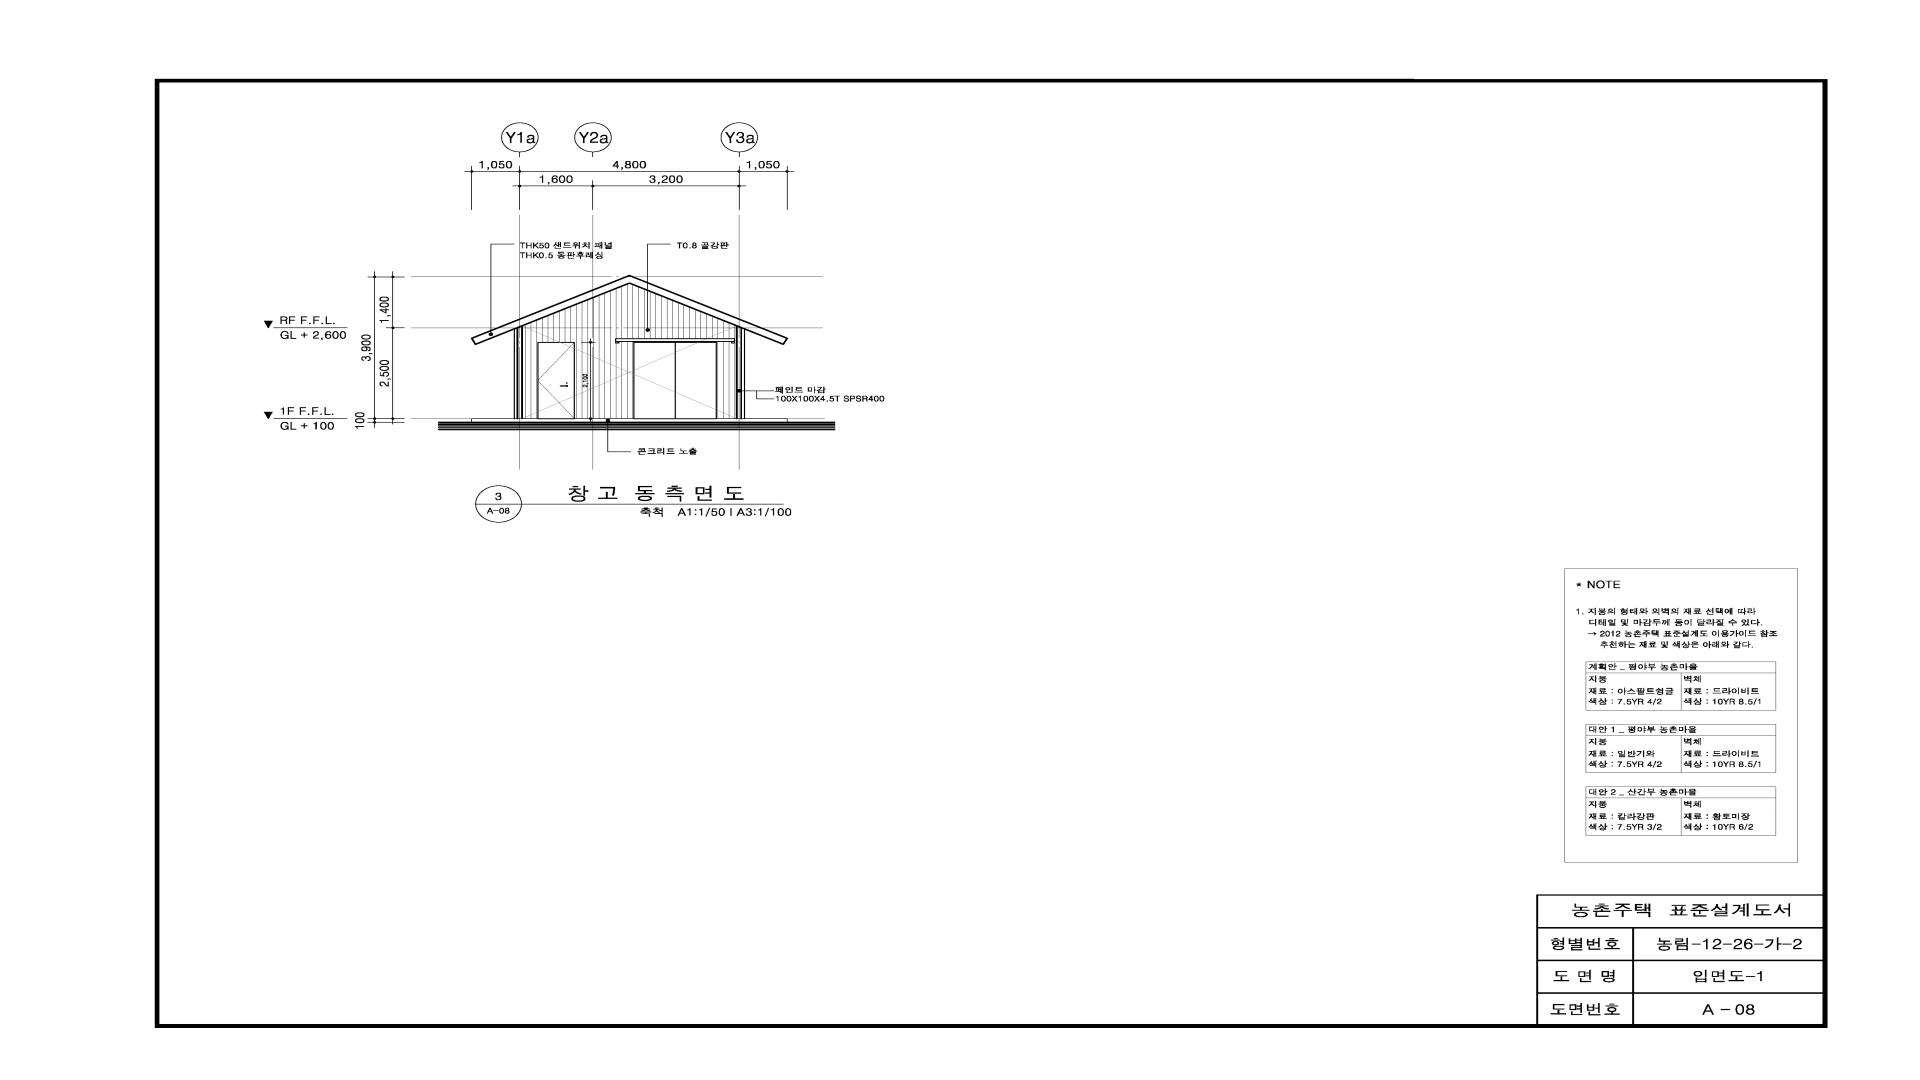door: (537, 342, 575, 418)
wall: (471, 274, 789, 422)
window: (633, 342, 717, 418)
